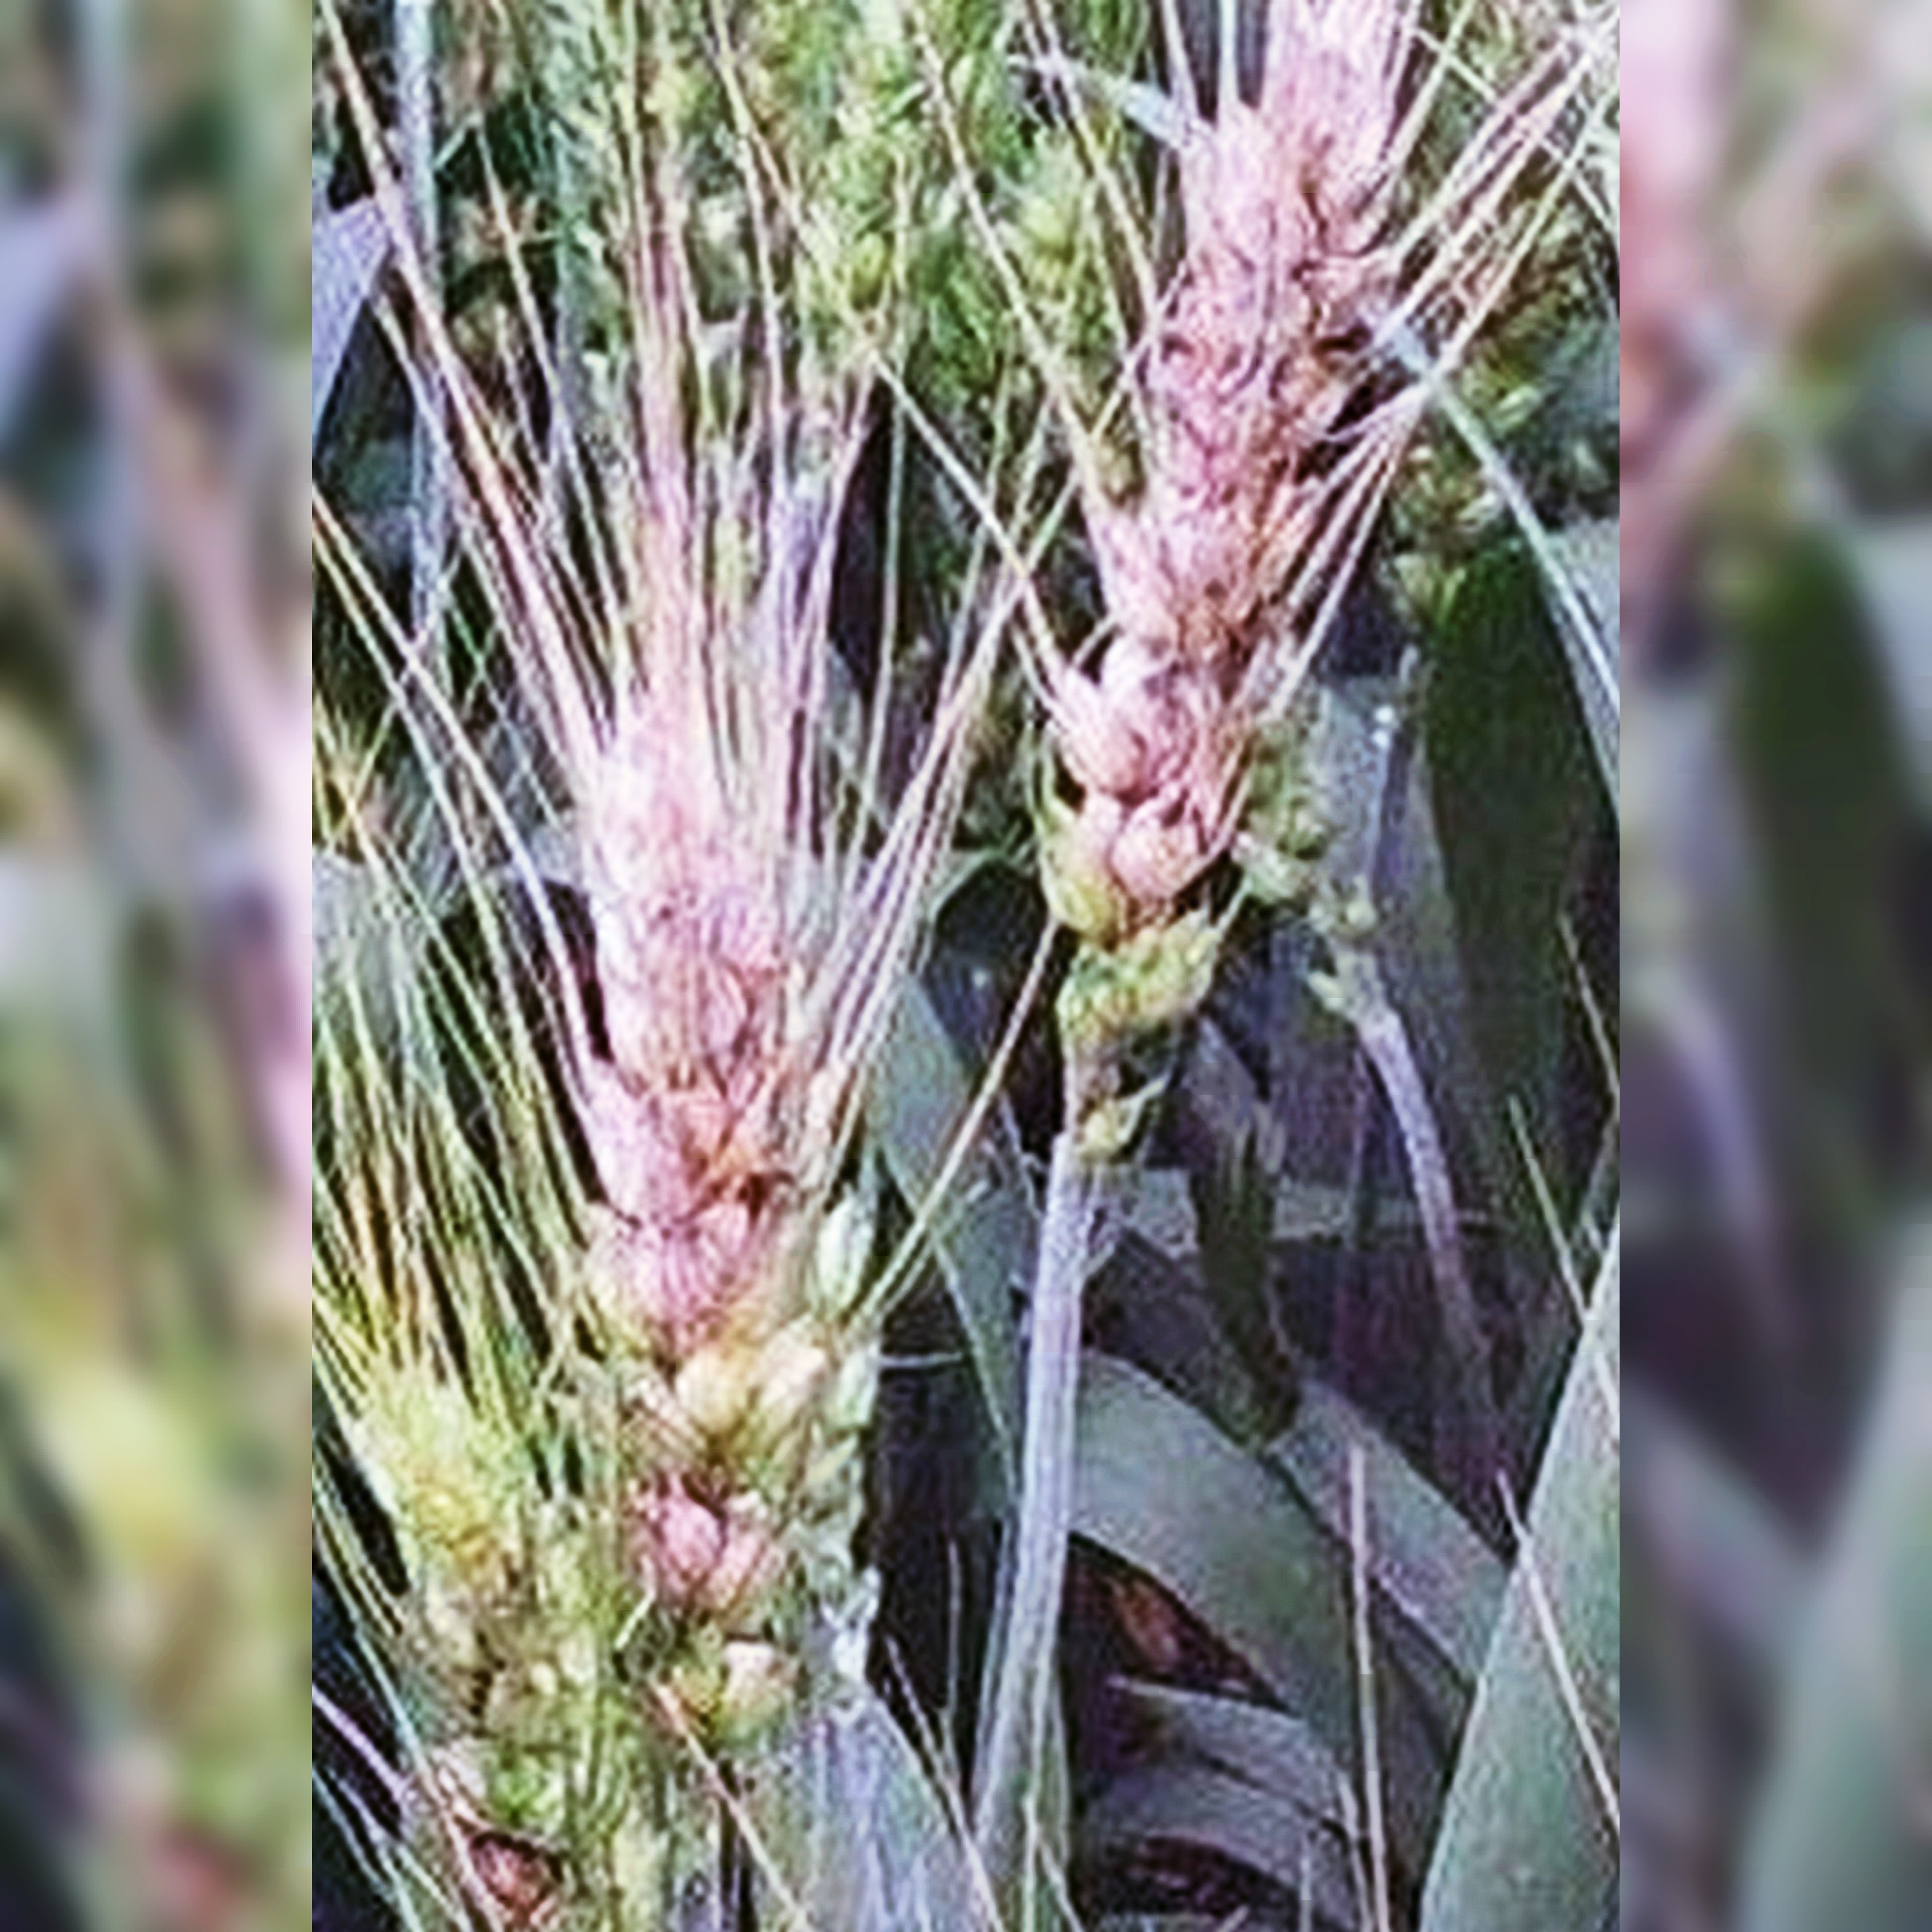Wheat scab: (1030, 50, 1384, 1092)
